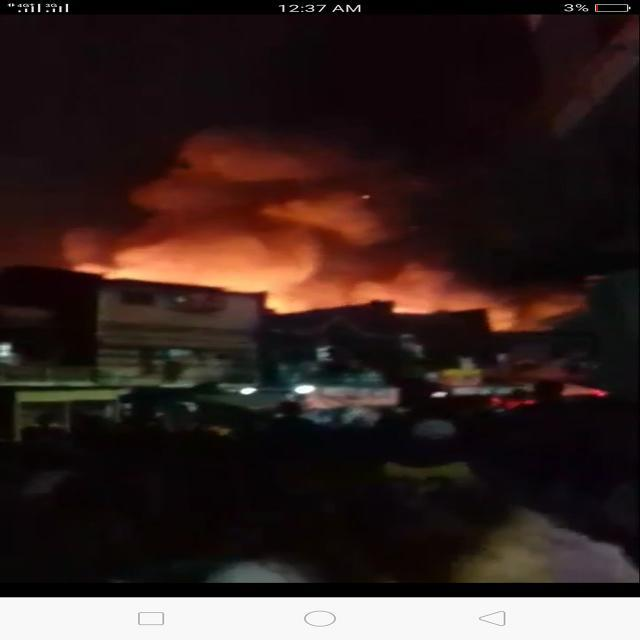Fire: (110, 238, 333, 278)
Smoke: (190, 134, 457, 284), (266, 266, 464, 306)
